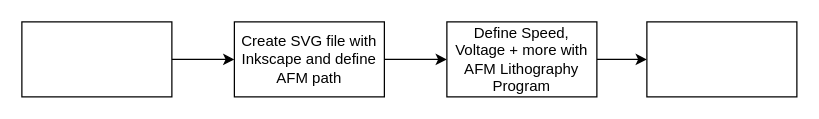
Some shapes in this 819 by 119 pixel diagram are drawn without their labels. The shapes that lost their labels are listed below. From the top down, each one's centre as x and y in pixels, then its label:
pixel 96 59: Take a baseline scan with AFM
pixel 721 59: Send to AFM using ActiveX, or .NET communciation.
